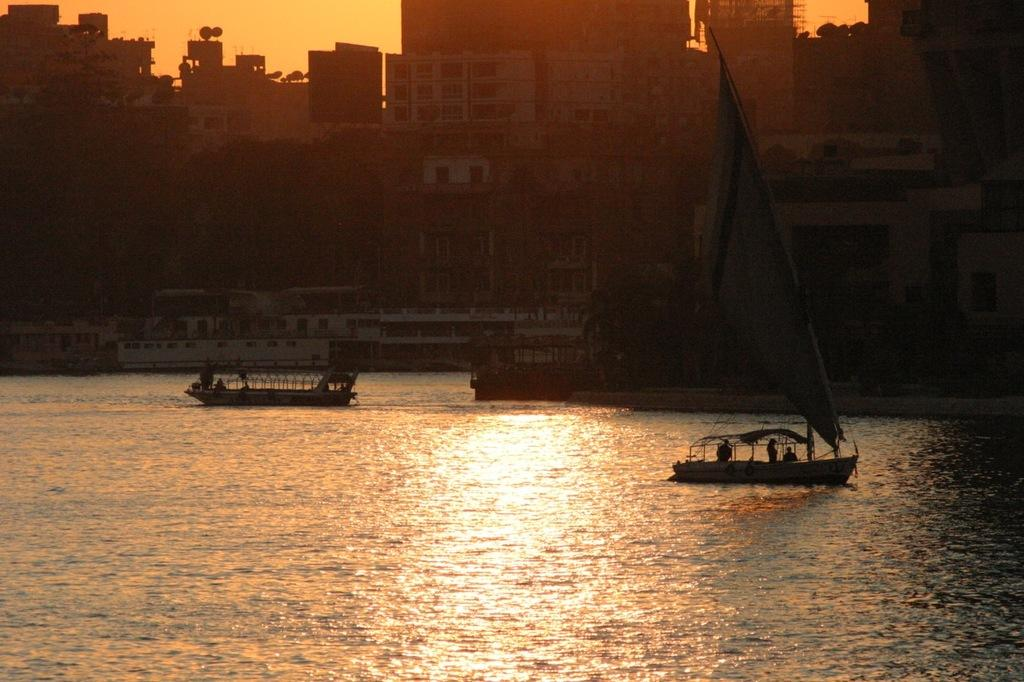PassengerShip: (180, 347, 368, 411)
